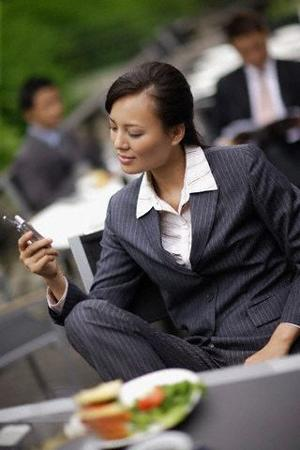person: (18, 60, 300, 385)
